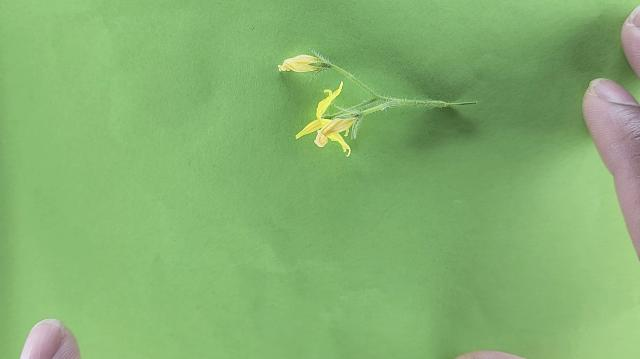Anthesis: (293, 81, 356, 155), (273, 53, 333, 82)
